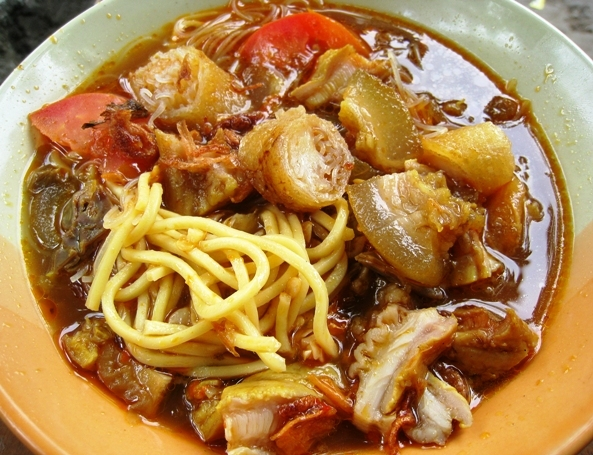soto: (10, 2, 586, 455)
